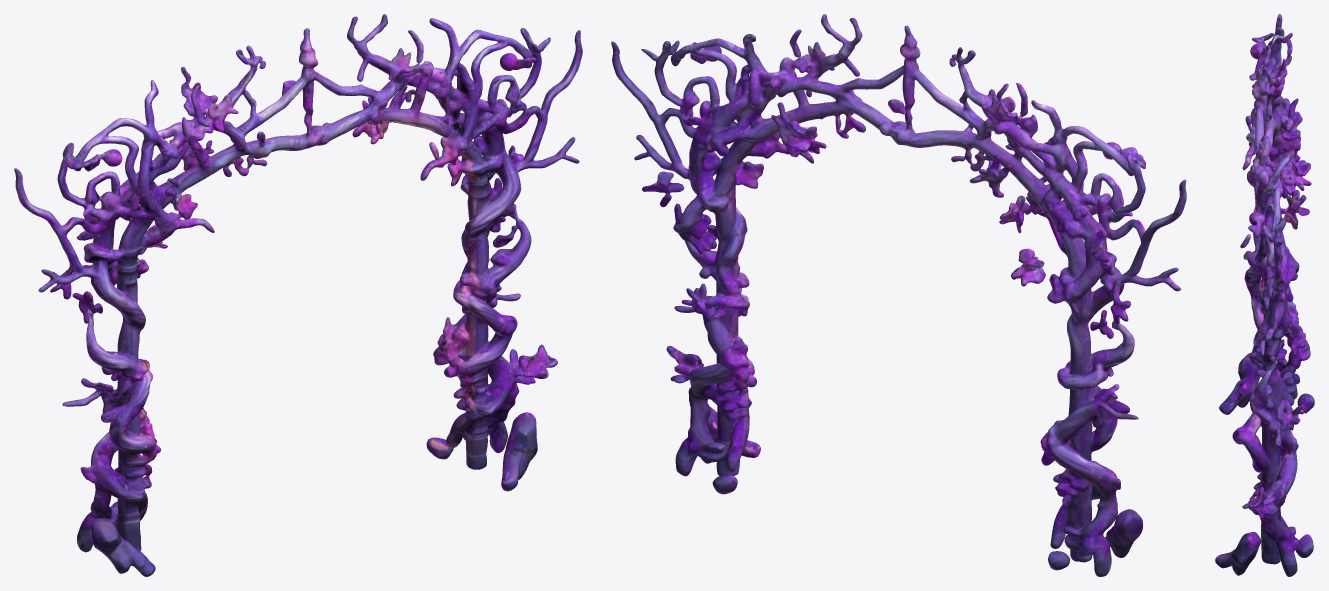
Rendered from Meshy_AI_A_floating_archway_ma_0127181511_texture.glb.
The picture shows the model from 3 angles, left to right: view 1: azimuth 30°, elevation 25°; view 2: azimuth 150°, elevation 25°; view 3: azimuth 270°, elevation 25°; orthographic projection. The views are drawn at different scales.
Size of the model in its own units: 1.99 by 1.64 by 0.3488.
1 material, 1 textured.
